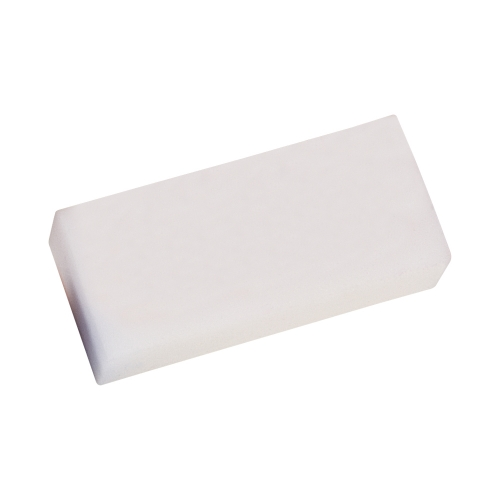eraser: (47, 109, 459, 391)
